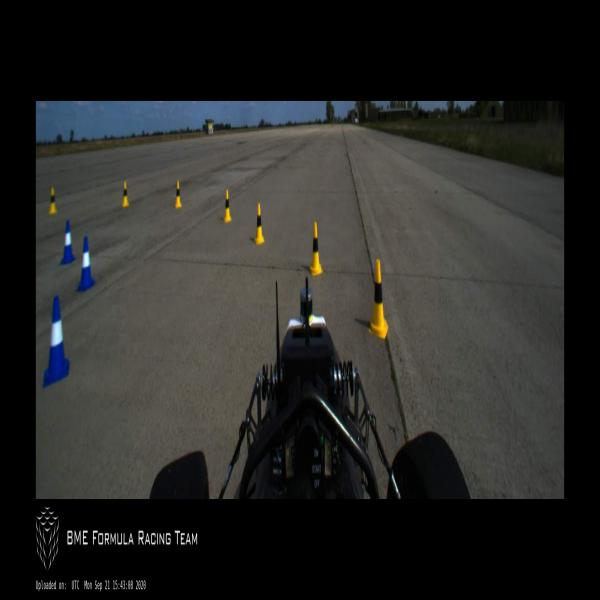blue_cone: (43, 296, 70, 389), (76, 236, 96, 292), (60, 221, 75, 265)
yellow_cone: (368, 260, 389, 339), (309, 222, 323, 276), (253, 203, 265, 246), (222, 189, 232, 223), (121, 182, 129, 208), (174, 180, 181, 209), (49, 188, 56, 214)
